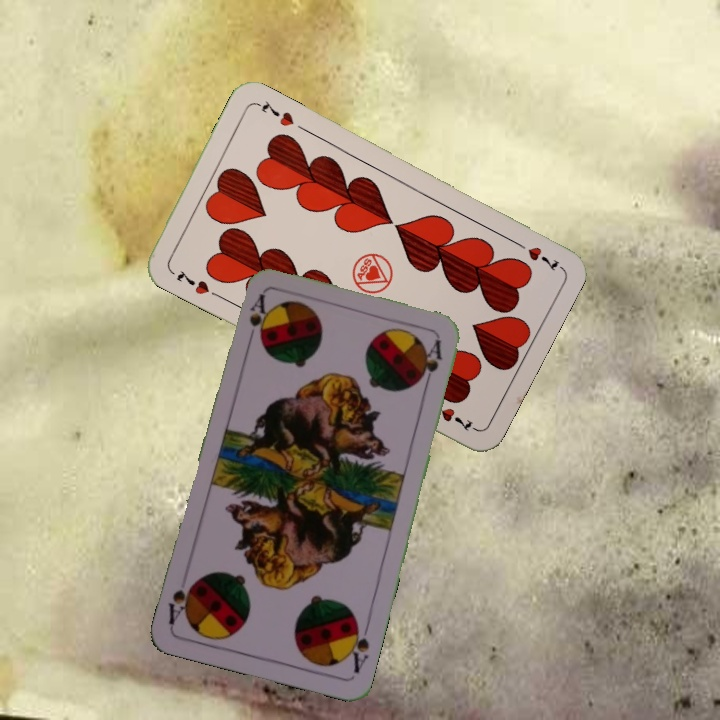H7: (509, 236, 563, 274), (172, 266, 212, 297)
SA: (342, 616, 373, 676), (243, 290, 269, 349)
